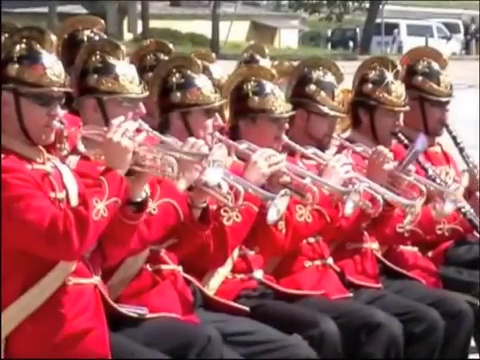person: (72, 40, 230, 360), (148, 70, 295, 360), (283, 61, 423, 360), (225, 75, 367, 360), (347, 62, 476, 360), (1, 37, 98, 360), (401, 48, 480, 307)
